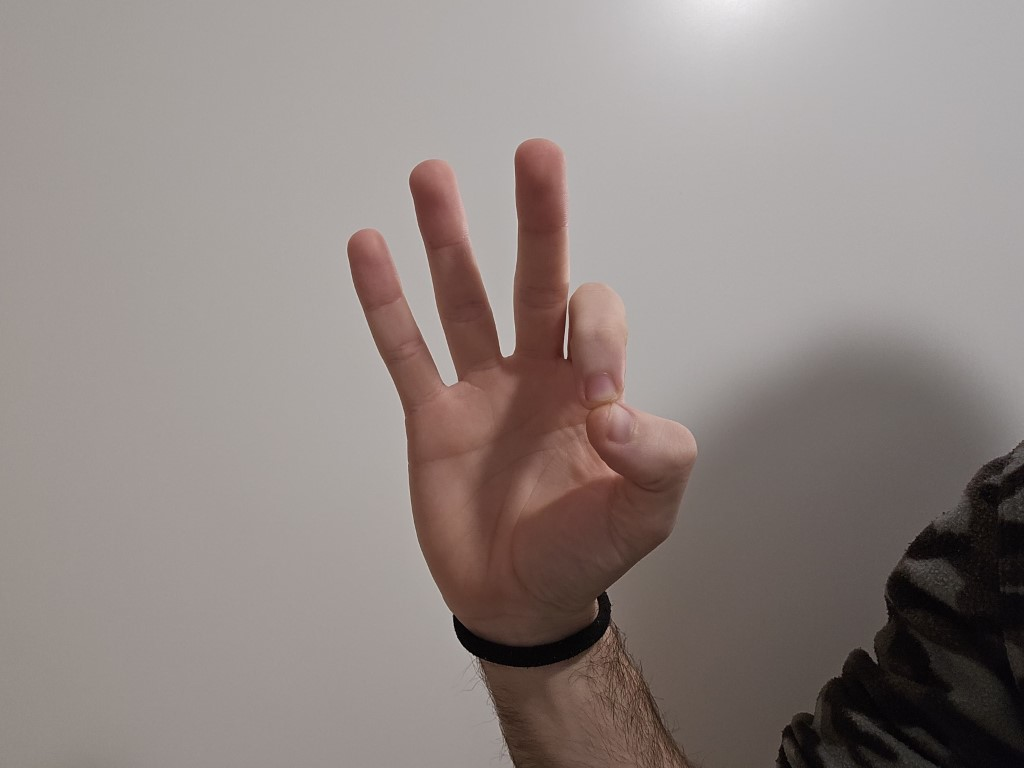f: (304, 139, 708, 619)
